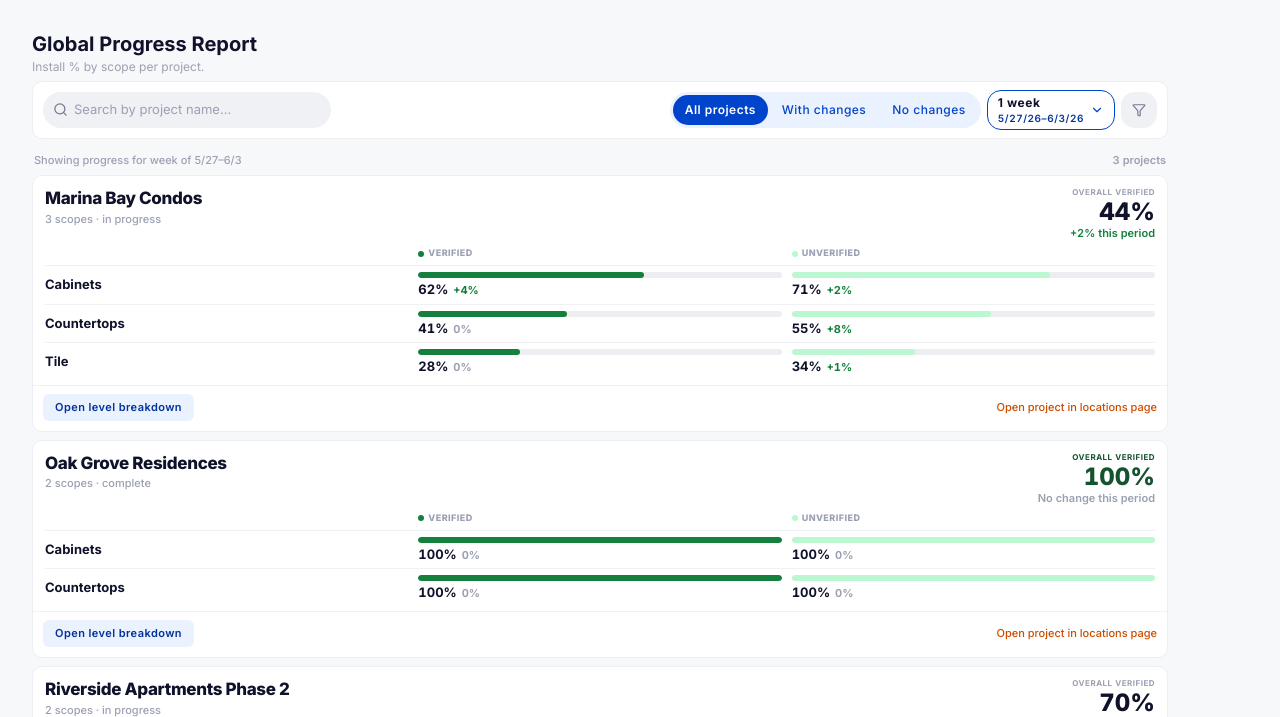
Test case: PortfolioProgressWireframe › shows per-scope Δ change column in the level breakdown modal
Expected: the heading "Marina Bay Condos" is shown, [45,188,202,208]
Click the button with aria-label "Open level breakdown for Marina Bay Condos". click: x=118, y=408
box: [43,394,194,421]
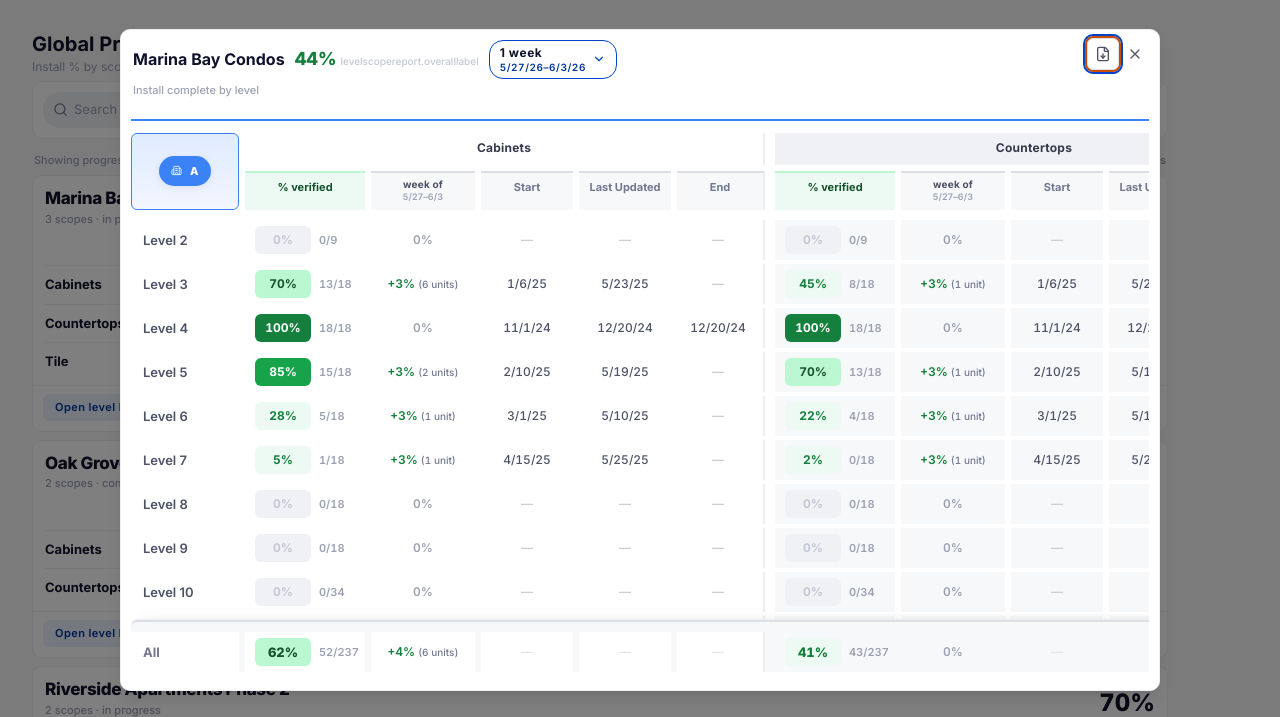
Expected: the dialog is shown
Expected: the text "Install complete by level" is shown, [133,83,259,97]
Expected: the 1st text "week of" is shown, [403,180,443,191]
